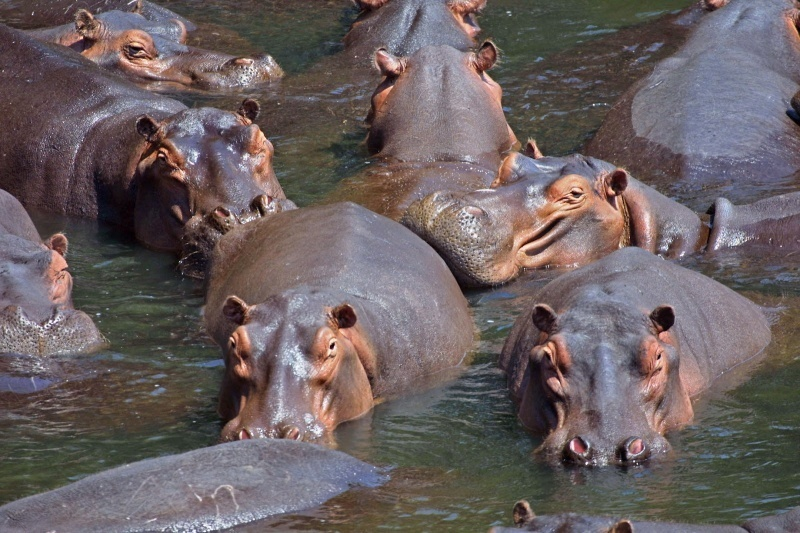hipopotamo: (3, 23, 297, 280), (198, 198, 479, 463), (501, 242, 783, 494), (399, 140, 800, 277), (592, 1, 800, 204), (1, 429, 387, 533), (3, 5, 295, 108), (1, 190, 122, 405), (358, 39, 518, 201)
